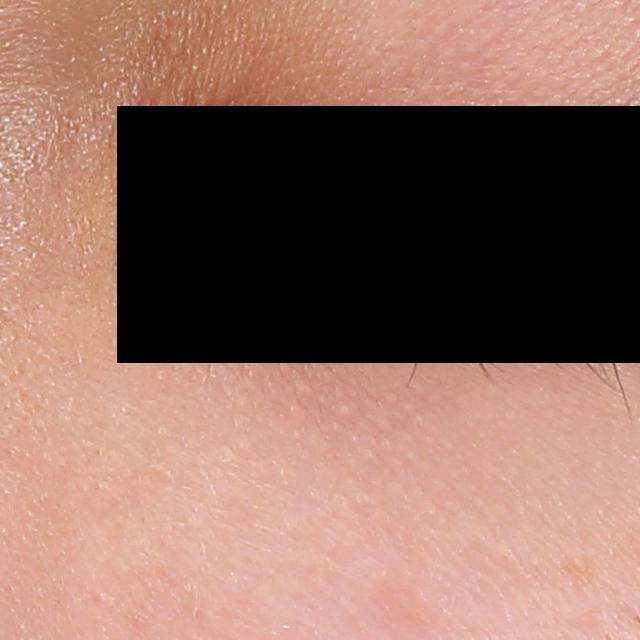melasma: (558, 552, 596, 589)
